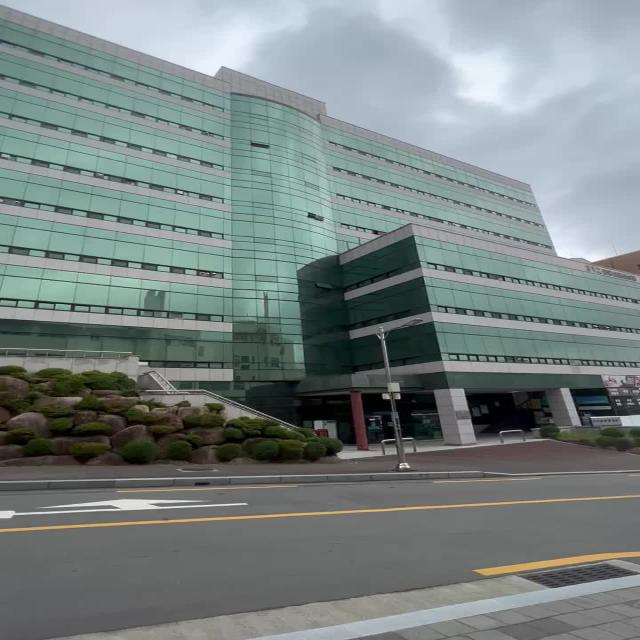building: (18, 90, 615, 380)
